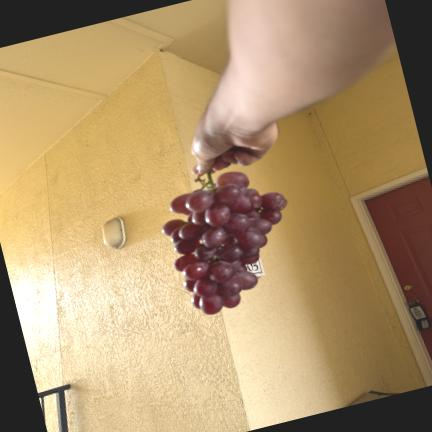grape_cluster: (161, 171, 287, 314)
